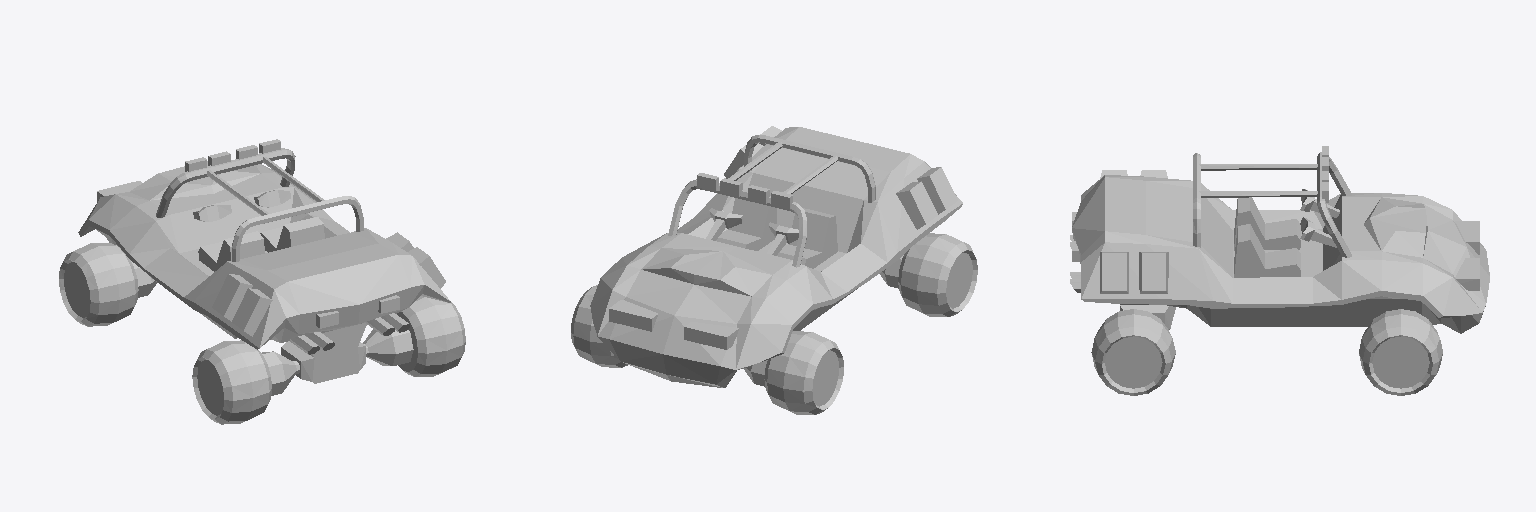
File: buggy.obj
The picture shows the model from 3 angles: view 1: azimuth 30°, elevation 25°; view 2: azimuth 150°, elevation 25°; view 3: azimuth 270°, elevation 25°; orthographic projection.
Parts seen in each view (by area): view 1: main, flw, rlw, rrw; view 2: main, rlw, flw, frw, rsteer, lsteer; view 3: main, frw, rrw.
Boxes of the visible parts, box(x1,y1,x2,y2) form: main: box(78, 139, 450, 395); flw: box(59, 243, 138, 326); rlw: box(192, 340, 271, 424); rrw: box(397, 296, 465, 376); main: box(590, 126, 962, 387); rlw: box(898, 233, 977, 316); flw: box(764, 331, 843, 414); frw: box(571, 285, 627, 367); rsteer: box(706, 208, 743, 240); lsteer: box(767, 222, 798, 255); main: box(1070, 146, 1489, 333); frw: box(1359, 309, 1442, 395); rrw: box(1091, 309, 1175, 395).
Size of the model in its own units: 11.03 by 7.64 by 16.62.